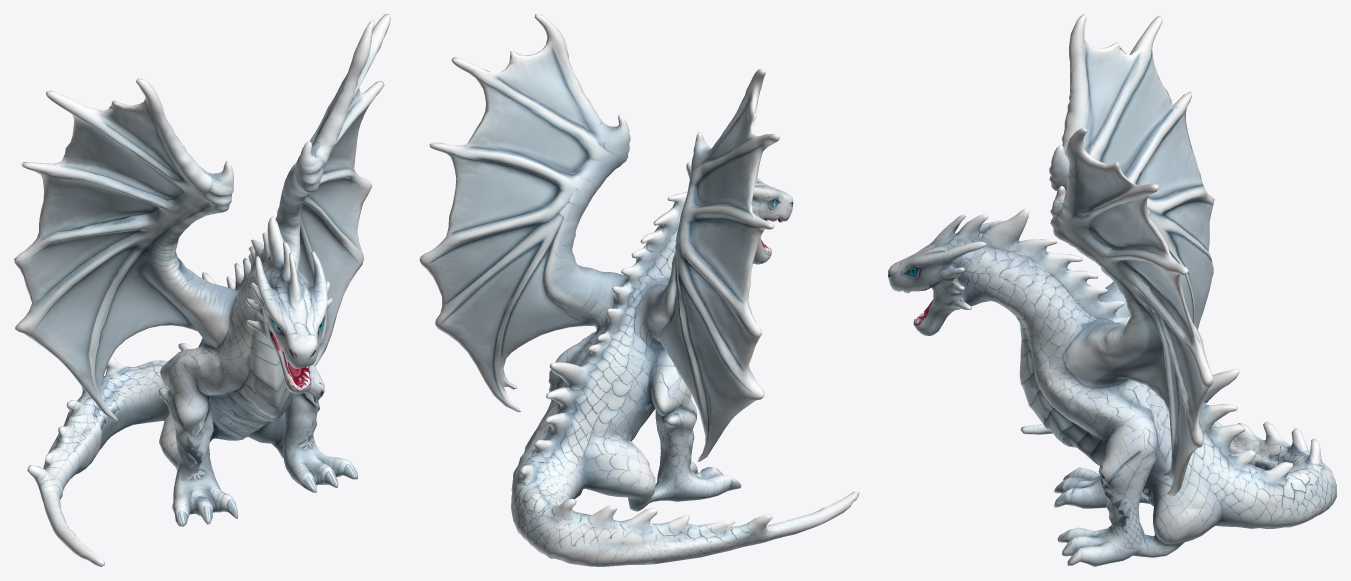
The model's file is blue-eyes.glb.
3 views of the same model, side by side, from view 1: azimuth 30°, elevation 25°; view 2: azimuth 150°, elevation 25°; view 3: azimuth 270°, elevation 25° (orthographic). The views are drawn at different scales.
Bounding box in the file's own units: 1.64 × 1.91 × 1.71.
Materials: 1 (1 with a texture image).
